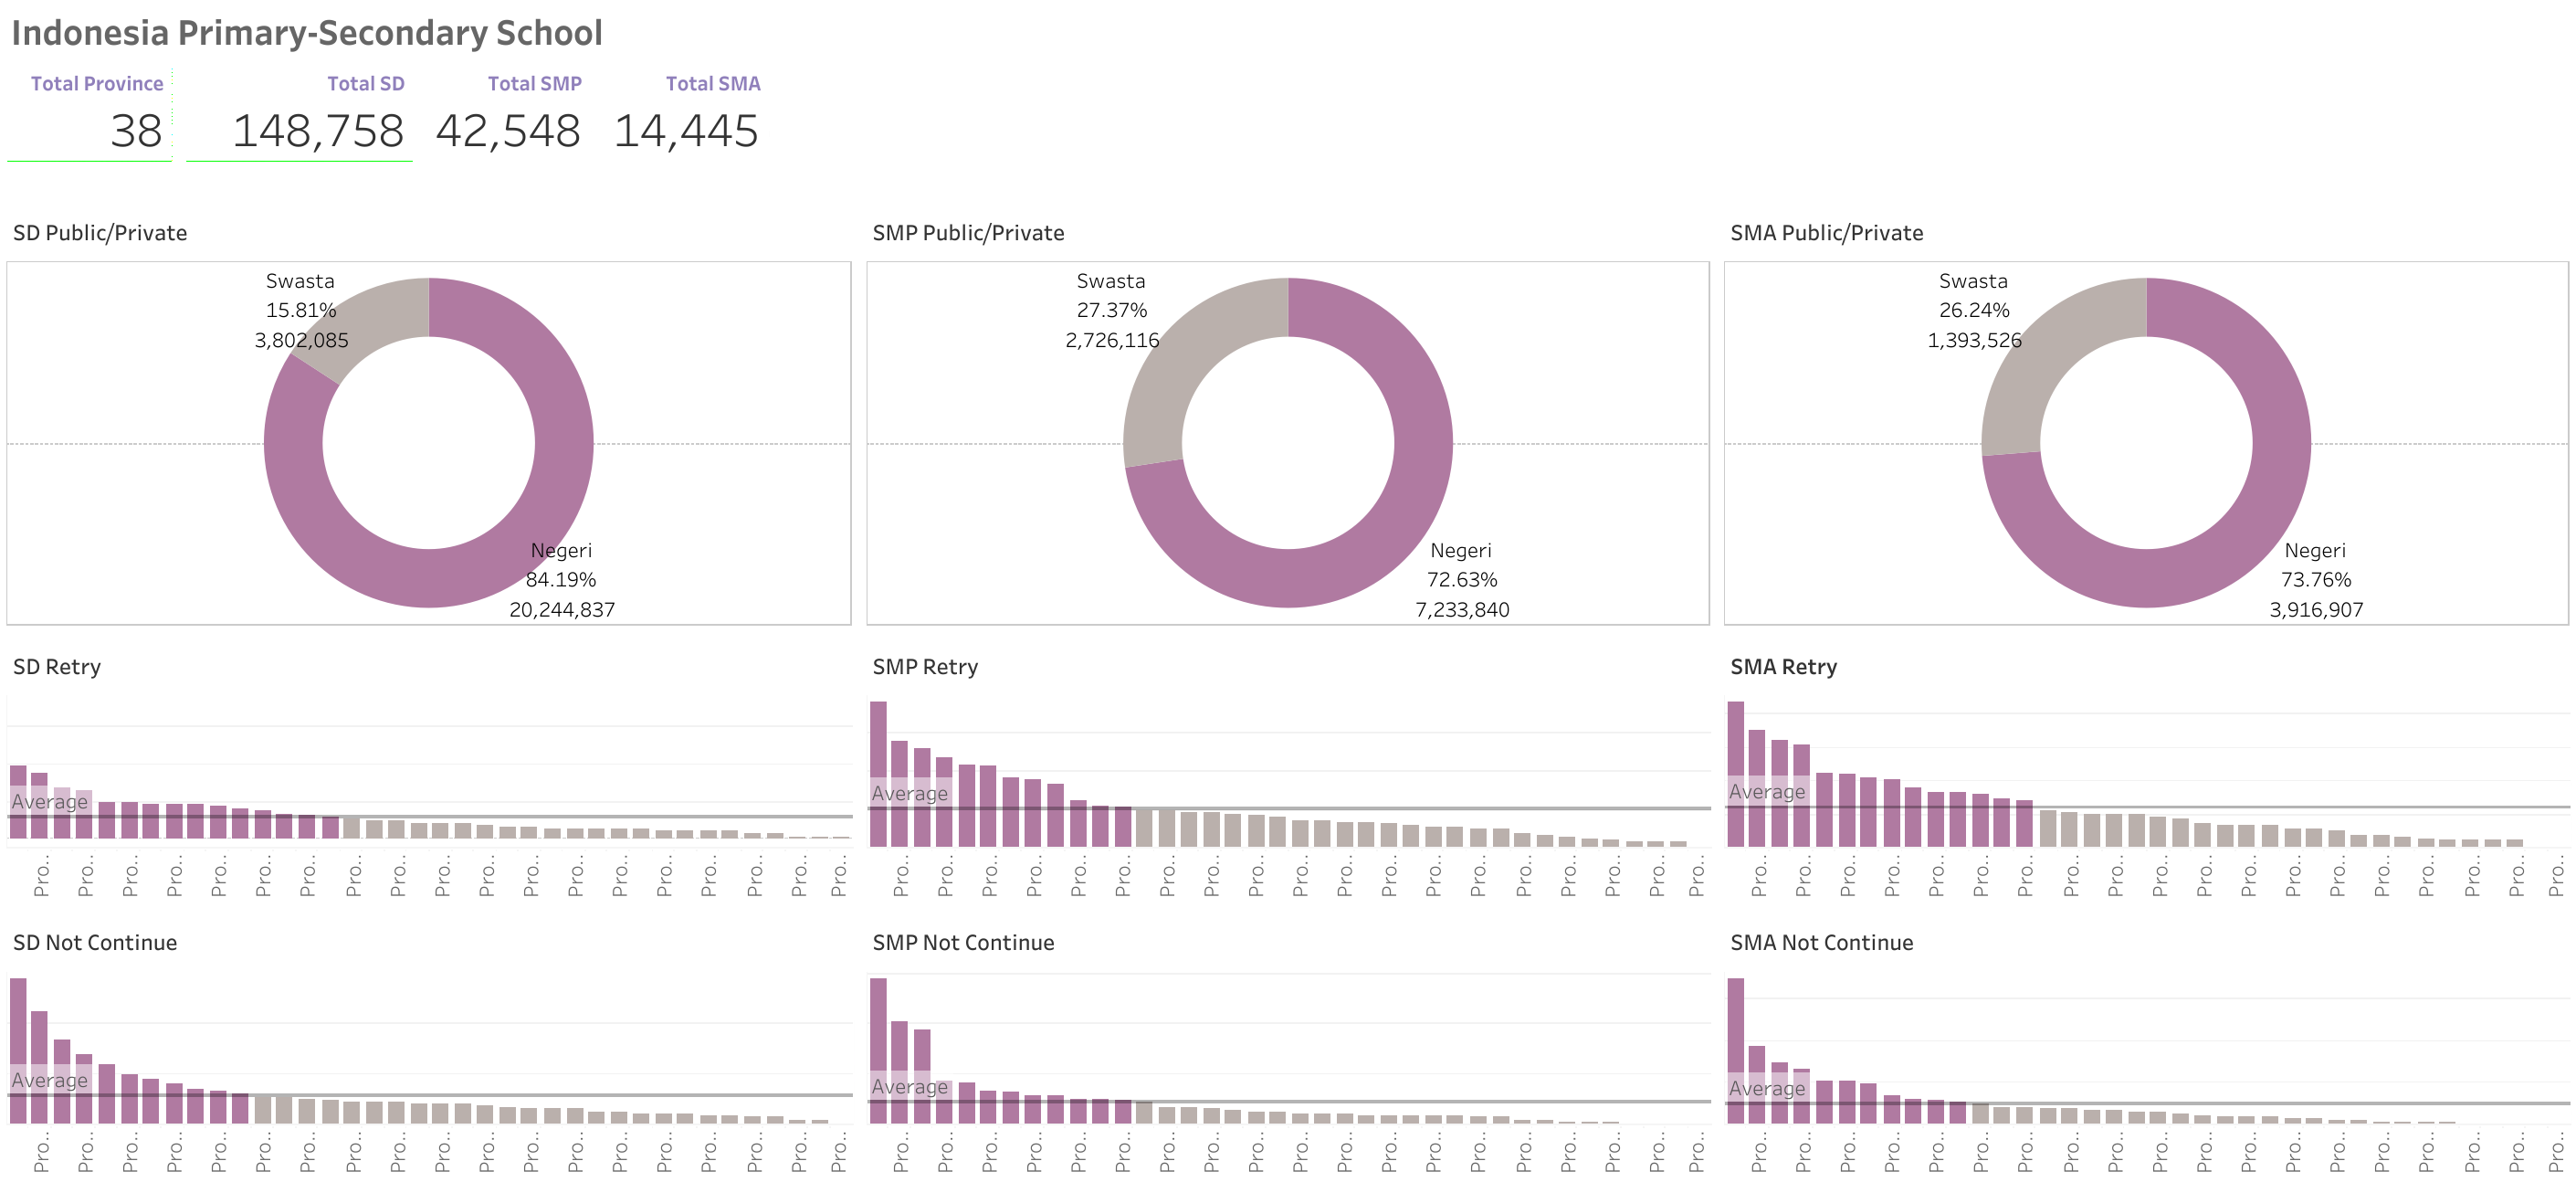

The dashboard page shown, as its layout file describes it:
{"tool":"tableau","page":{"name":"Primary-Secondary Indonesian School Data","canvas":[1000,1000],"units":"permille","ordinal":0},"visuals":[{"type":"text","box":[0,0,1000,54.8]},{"type":"worksheet","title":"Total Prov","mark":"Automatic","box":[0,54.8,106.4,112.3]},{"type":"worksheet","title":"Total SD","mark":"Automatic","box":[106.4,54.8,122.2,112.3]},{"type":"worksheet","title":"Total SMP","mark":"Automatic","box":[228.6,54.8,106.4,112.3]},{"type":"worksheet","title":"Total SMA","mark":"Automatic","box":[335,54.8,106.4,112.3]},{"type":"worksheet","title":"SD Status Siswa","mark":"Pie","rows":["Calculation_640918524805201930","Calculation_640918524805201930"],"box":[0,167.1,333.3,352.9]},{"type":"worksheet","title":"SMP Status Siswa","mark":"Pie","rows":["Calculation_640918524805201930","Calculation_640918524805201930"],"box":[333.3,167.1,333.3,352.9]},{"type":"worksheet","title":"SMA Status Siswa","mark":"Pie","rows":["Calculation_640918524805201930","Calculation_640918524805201930"],"box":[666.7,167.1,333.3,352.9]},{"type":"worksheet","title":"SD Ulang","mark":"Bar","rows":["Mengulang"],"cols":["Provinsi"],"box":[0,520.1,333.3,240.6]},{"type":"worksheet","title":"SMP Ulang","mark":"Bar","rows":["Mengulang (Sheet11)"],"cols":["Provinsi"],"box":[333.3,520.1,333.3,240.6]},{"type":"worksheet","title":"SMA Ulang","mark":"Automatic","rows":["Mengulang (Sheet12)"],"cols":["Provinsi (Sheet12)"],"box":[666.5,520.1,333.3,240.6]},{"type":"worksheet","title":"SD Putus","mark":"Automatic","rows":["Putus Sekolah"],"cols":["Provinsi"],"box":[0,760.7,333.3,239.3]},{"type":"worksheet","title":"SMP Putus","mark":"Automatic","rows":["Putus Sekolah (Sheet11)"],"cols":["Provinsi"],"box":[333.3,760.7,333.3,239.3]},{"type":"worksheet","title":"SMA Putus","mark":"Automatic","rows":["Putus Sekolah (Sheet12)"],"cols":["Provinsi"],"box":[666.5,760.7,333.3,239.3]}]}

Visuals, with their boxes on the dashboard's canvas, which has no fixed pixel size, in thousandths of its width and height (x1, y1, x2, y2). These are canvas units, not pixel positions in the 2576x1182 screenshot, which may show the page scaled, cropped or inside an application window:
text: 0 0 1000 55
"Total Prov" worksheet: 0 55 106 167
"Total SD" worksheet: 106 55 229 167
"Total SMP" worksheet: 229 55 335 167
"Total SMA" worksheet: 335 55 441 167
"SD Status Siswa" worksheet (Pie marks): 0 167 333 520
"SMP Status Siswa" worksheet (Pie marks): 333 167 667 520
"SMA Status Siswa" worksheet (Pie marks): 667 167 1000 520
"SD Ulang" worksheet (Bar marks): 0 520 333 761
"SMP Ulang" worksheet (Bar marks): 333 520 667 761
"SMA Ulang" worksheet: 666 520 1000 761
"SD Putus" worksheet: 0 761 333 1000
"SMP Putus" worksheet: 333 761 667 1000
"SMA Putus" worksheet: 666 761 1000 1000
